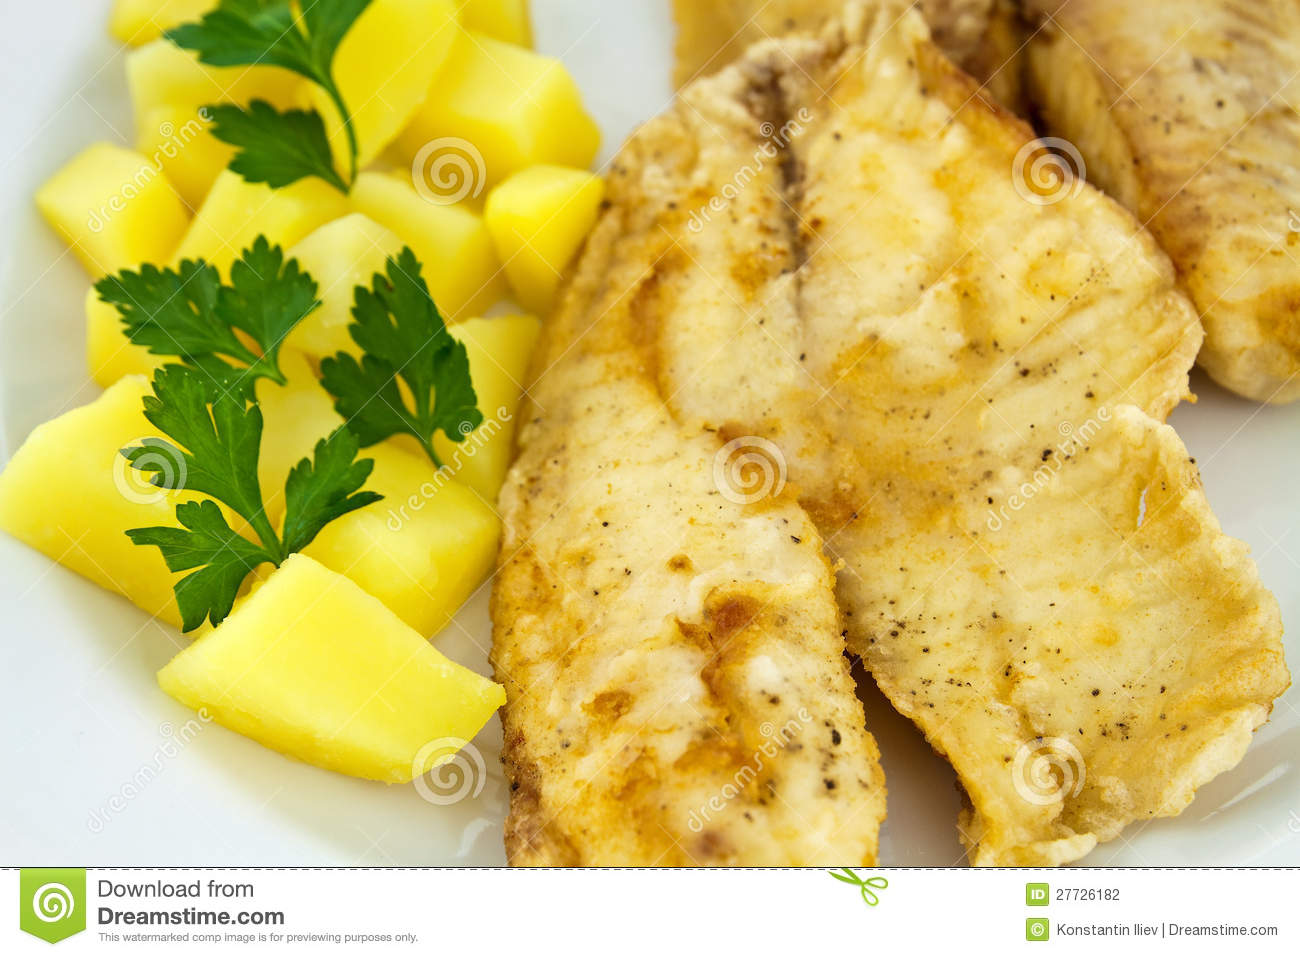boiled potatoes: (60, 138, 423, 721)
